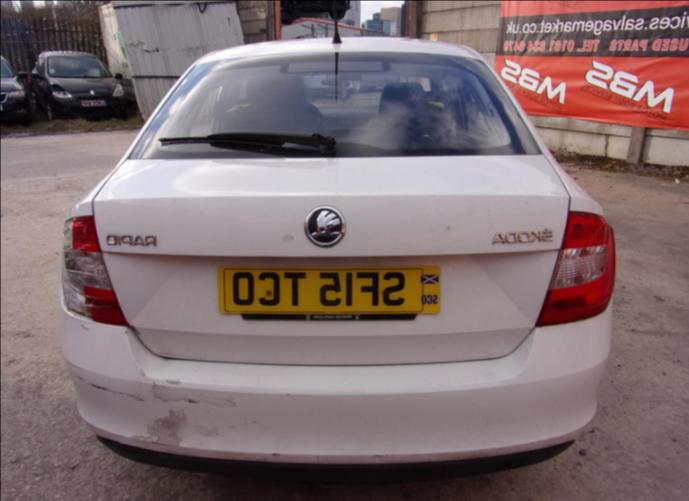Cracked: (60, 215, 129, 326)
Flaking: (123, 410, 222, 453), (147, 381, 236, 408), (277, 229, 297, 243)
Scratch: (74, 372, 148, 403), (177, 393, 203, 406), (370, 452, 385, 459), (81, 323, 90, 334), (270, 452, 279, 460), (74, 322, 80, 332), (80, 321, 85, 327)
